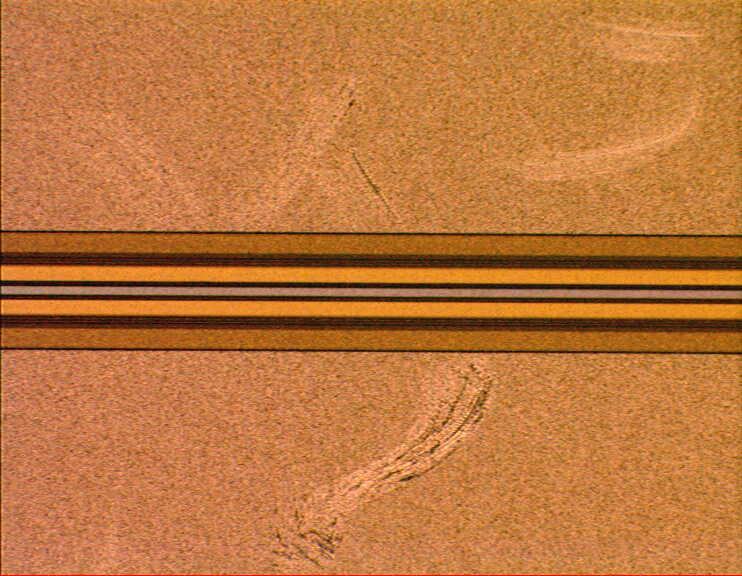SCRATCH: (67, 4, 727, 576)
